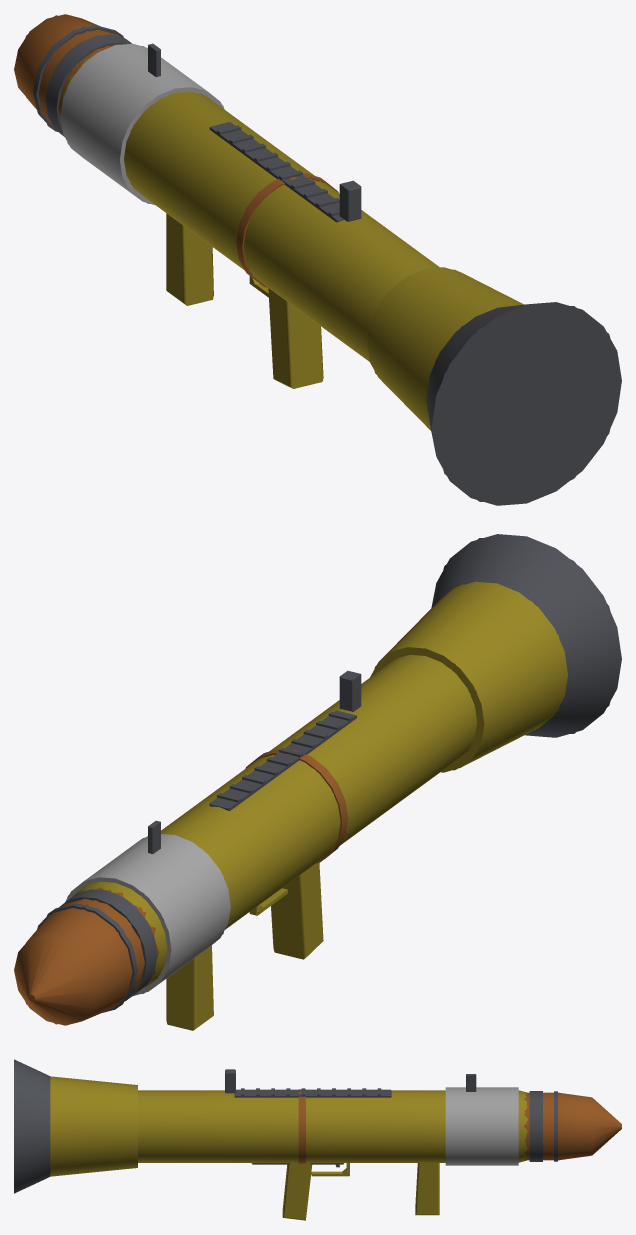
The model's file is napalm.glb.
3 renders of one model, top to bottom at view 1: azimuth 30°, elevation 25°; view 2: azimuth 150°, elevation 25°; view 3: azimuth 270°, elevation 25°, orthographic. The views are drawn at different scales.
Visible parts, largest first — view 1: L0, L1; view 2: L0, L1; view 3: L0, L1.
Part boxes in pixels (x1,y1,x2,y2): L0: [14, 14, 621, 505]; L1: [25, 15, 621, 503]; L0: [14, 534, 621, 1030]; L1: [25, 538, 610, 1024]; L0: [14, 1059, 621, 1220]; L1: [14, 1059, 621, 1193].
Size of the model in its own units: 0.222 by 0.274 by 1.
